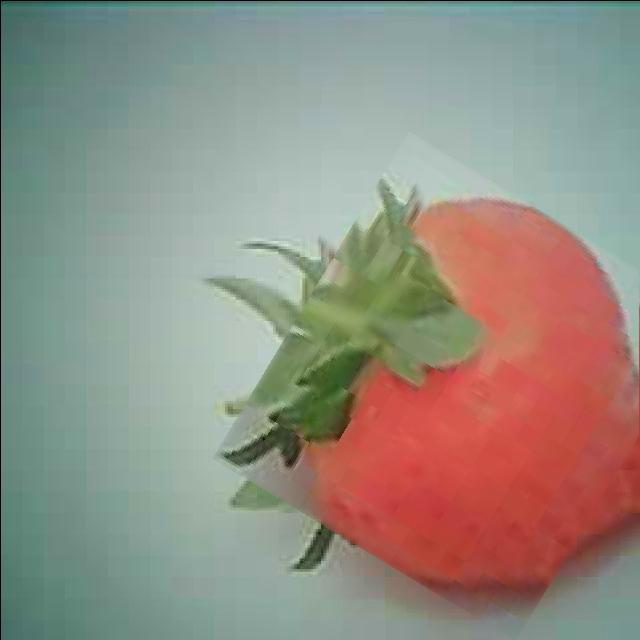strawberry: (249, 162, 640, 608)
